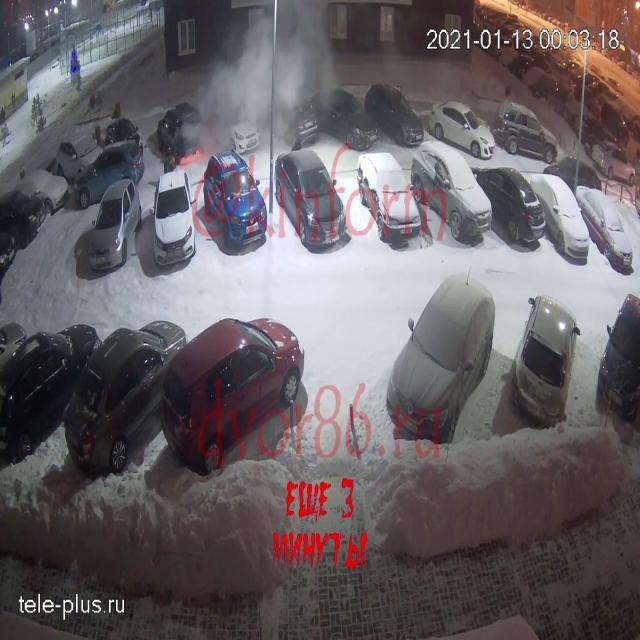Smoke: (179, 2, 341, 158)
